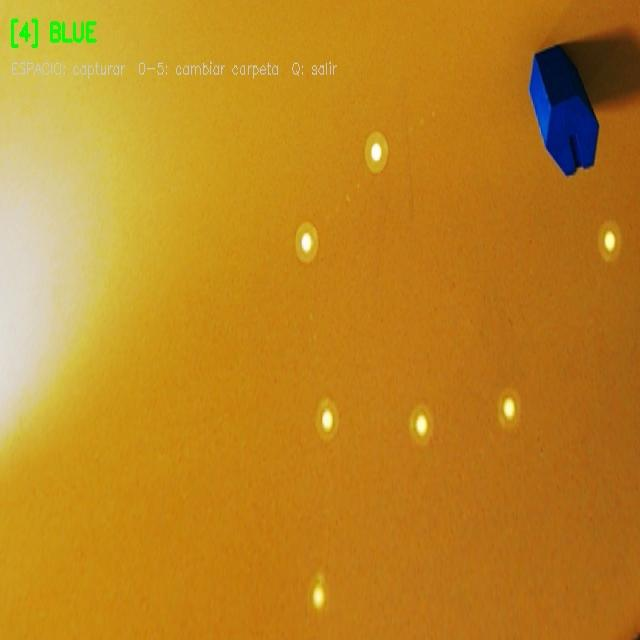blue: (529, 44, 598, 175)
